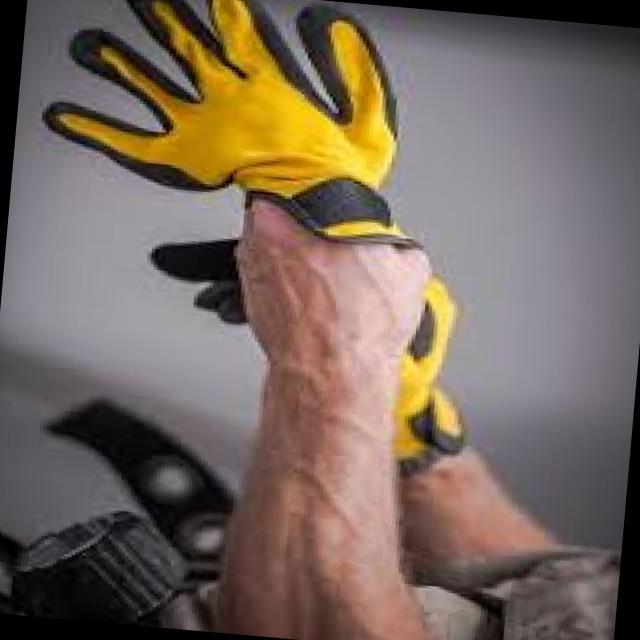gloved: (39, 0, 450, 253)
not-gloved: (227, 235, 448, 388)
